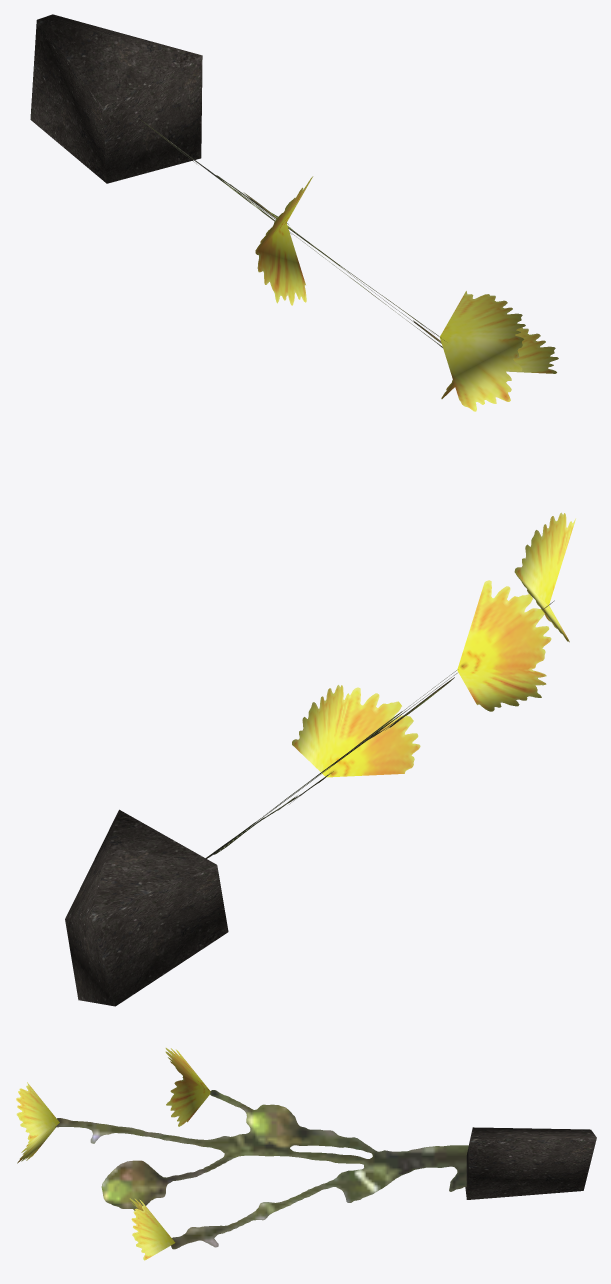
The model's file is com_flower_yellow3_LOD1.obj.
The picture shows the model from 3 angles, top to bottom: view 1: azimuth 30°, elevation 25°; view 2: azimuth 150°, elevation 25°; view 3: azimuth 270°, elevation 25°; orthographic projection. The views are drawn at different scales.
Parts seen in each view (by area): view 1: mtl_plastic_bucket_soil, mtl_gardenflowers; view 2: mtl_plastic_bucket_soil, mtl_gardenflowers; view 3: mtl_gardenflowers, mtl_plastic_bucket_soil.
Boxes of the visible parts, box(x1,y1,x2,y2) form: mtl_plastic_bucket_soil: box(30, 14, 202, 183); mtl_gardenflowers: box(138, 118, 558, 411); mtl_plastic_bucket_soil: box(65, 809, 228, 1006); mtl_gardenflowers: box(206, 512, 575, 858); mtl_gardenflowers: box(16, 1048, 468, 1260); mtl_plastic_bucket_soil: box(465, 1127, 596, 1199).
Bounding box in the file's own units: 16.99 × 13.21 × 41.44.
